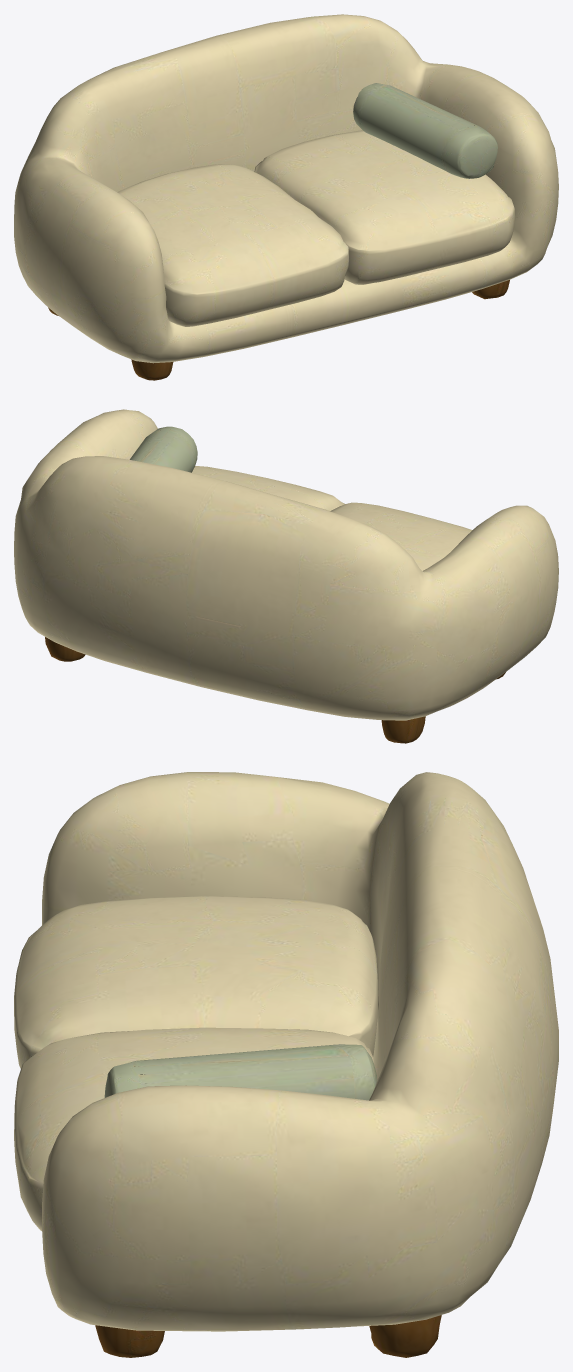
The model's file is cloud-sofa-v2.glb.
3 views of the same model, one above another, from view 1: azimuth 30°, elevation 25°; view 2: azimuth 150°, elevation 25°; view 3: azimuth 270°, elevation 25° (orthographic). The views are drawn at different scales.
Visible parts, largest first — view 1: geometry_0; view 2: geometry_0; view 3: geometry_0.
Part boxes in pixels (<box>): geometry_0: <box>14,14,558,380</box>; geometry_0: <box>14,409,558,743</box>; geometry_0: <box>14,772,558,1357</box>.
Bounding box in the file's own units: 0.957 × 0.4229 × 0.5889.
1 material, 1 textured.
